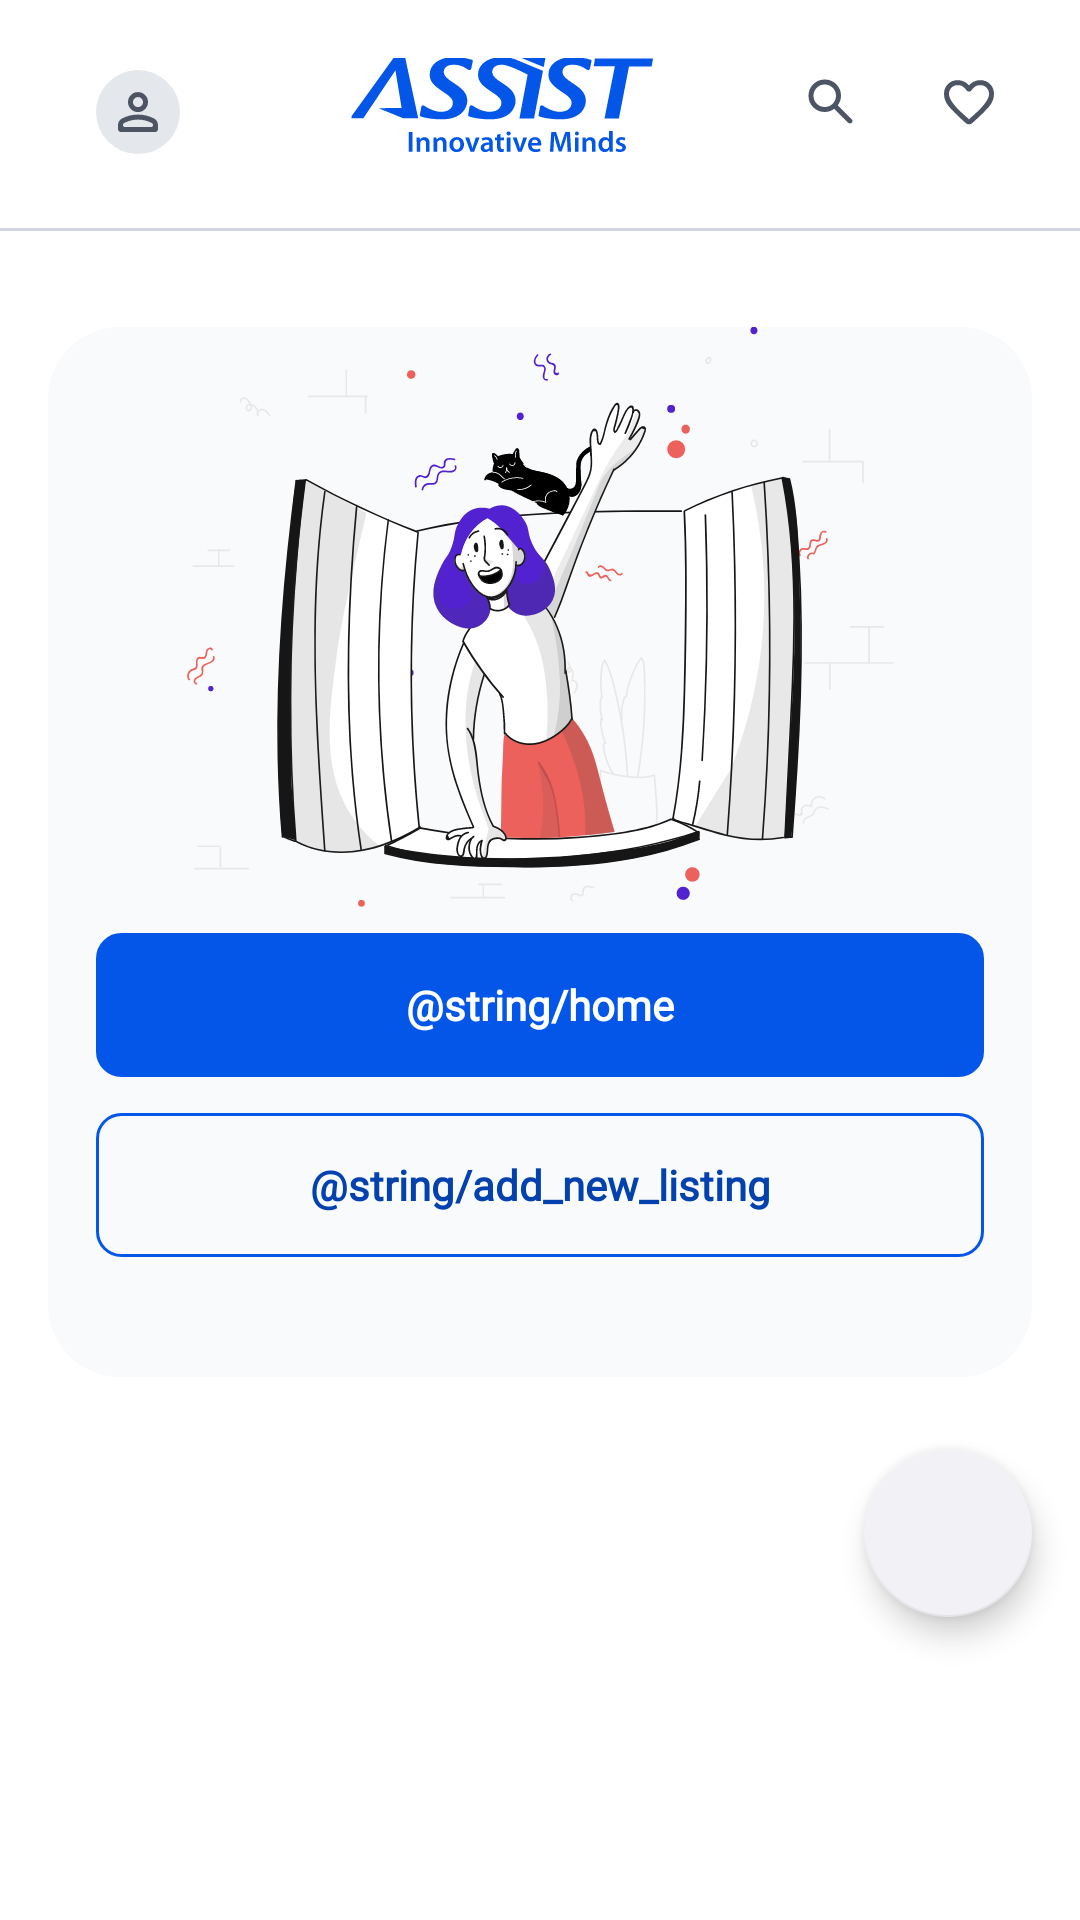

Named icons in this screenshot (1080px x 1920px) and their bounding boxes, (x1, y1, x2, y2):
favourites: (944, 80, 994, 125)
no pfp: (96, 70, 180, 154)
search: (808, 79, 853, 124)
